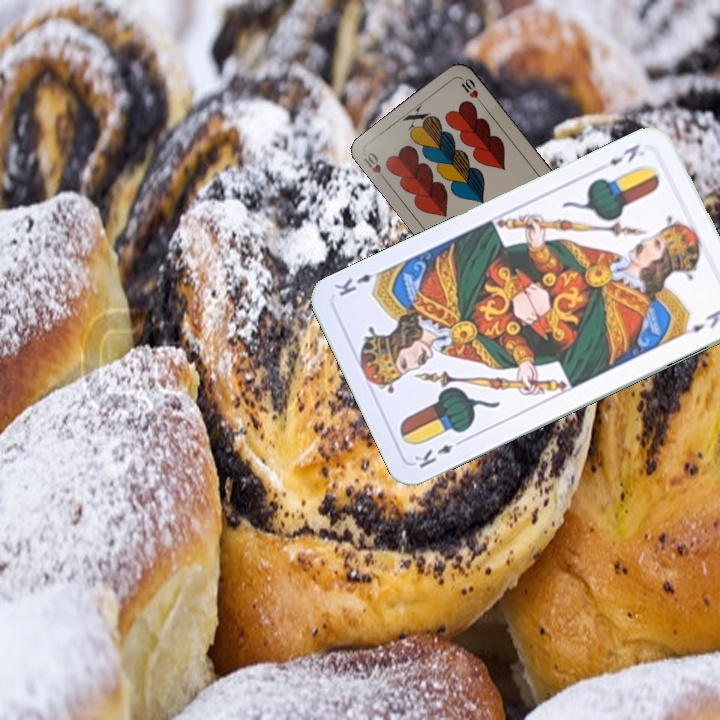EK: (410, 434, 467, 471), (604, 140, 642, 168)
H10: (359, 148, 390, 185)
